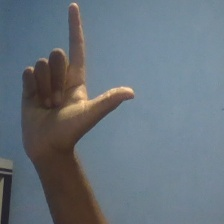L: (19, 2, 139, 161)
